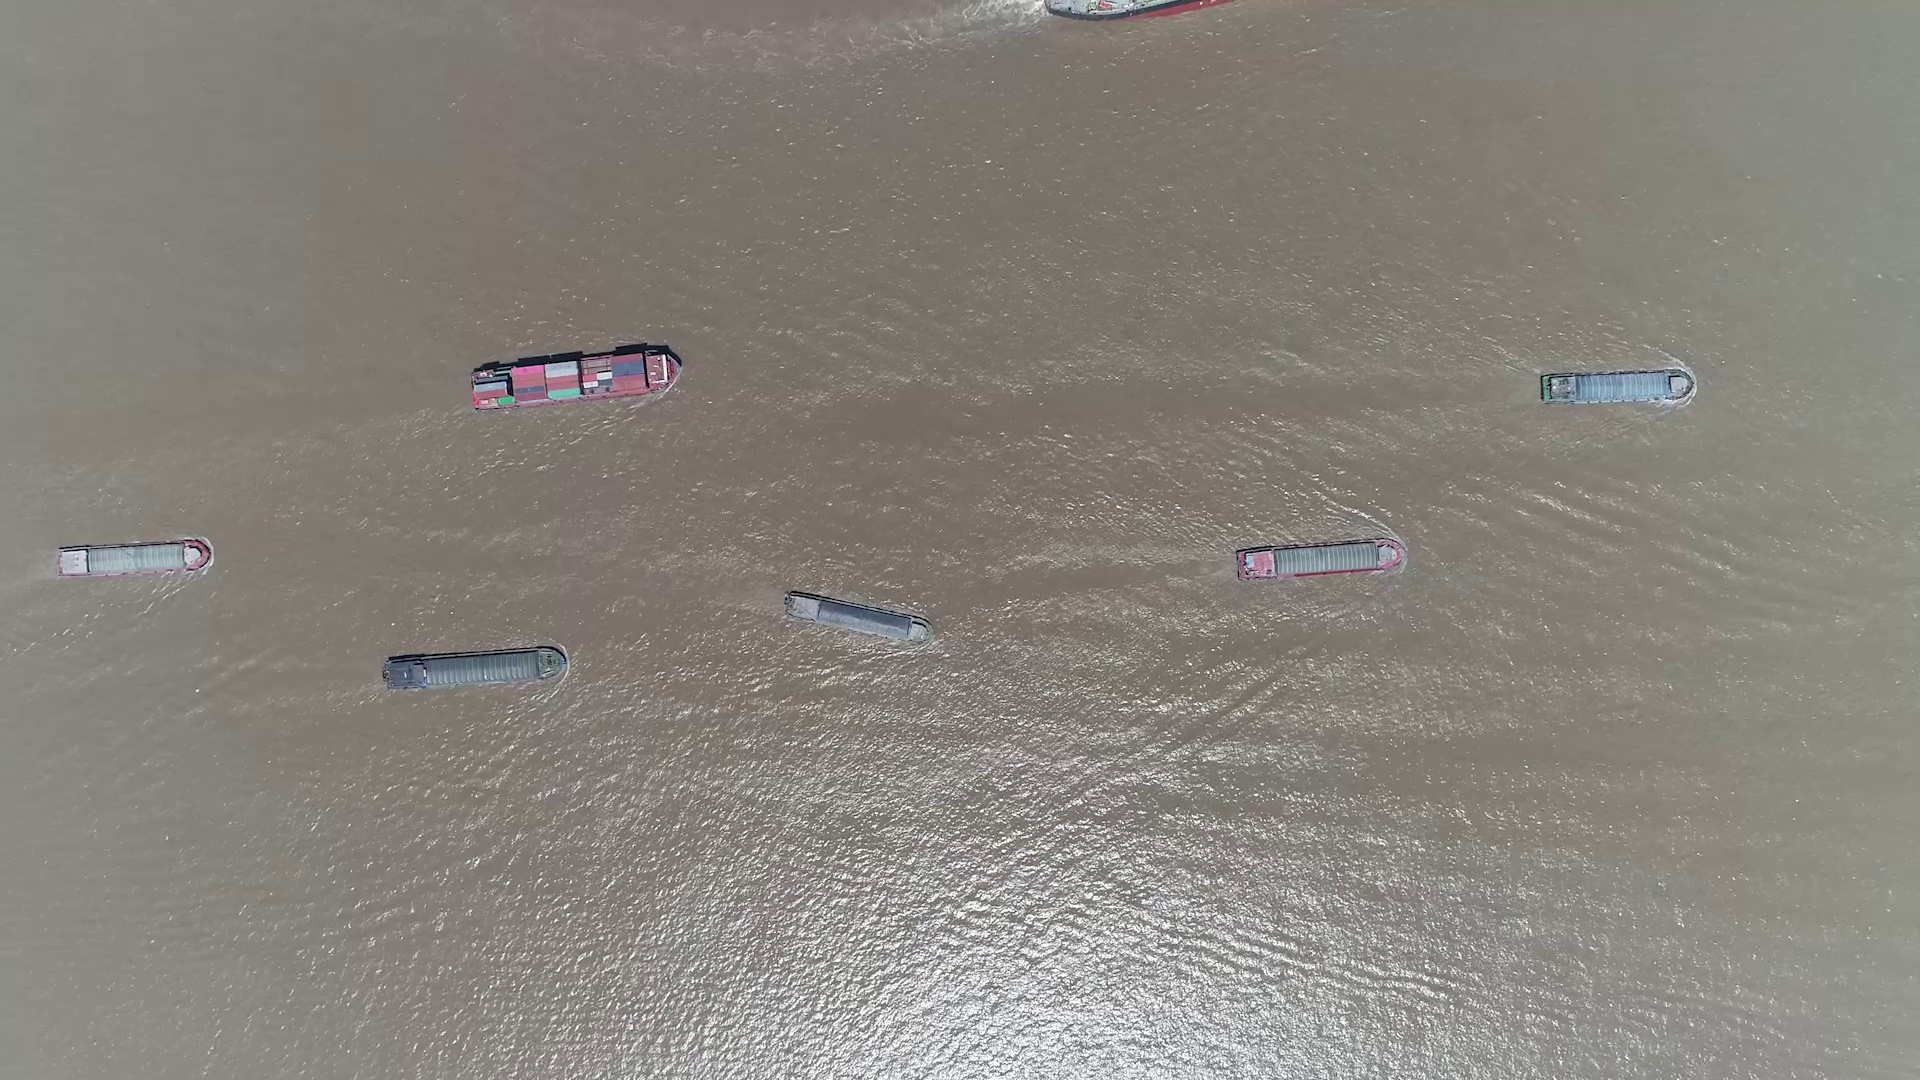ship: (471, 347, 682, 409), (382, 646, 567, 691), (785, 589, 931, 644), (1236, 539, 1408, 582), (55, 541, 214, 578), (1539, 371, 1693, 405), (1040, 3, 1228, 18)
